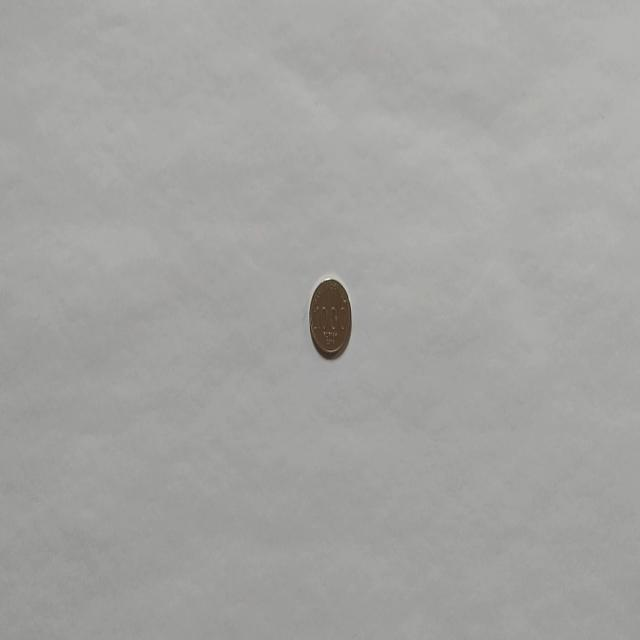seribu rupiah koin: (308, 274, 352, 360)
